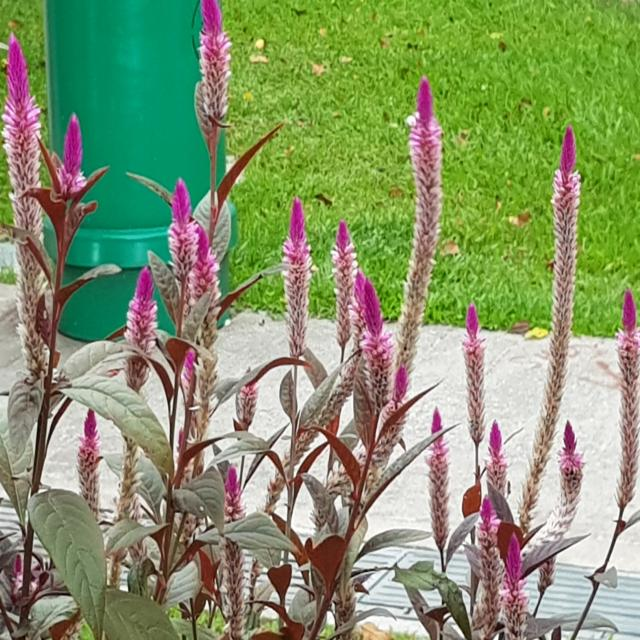Celosia-Argentea: (399, 74, 452, 399), (0, 29, 43, 371), (540, 115, 582, 415), (598, 250, 640, 546), (179, 0, 254, 164), (526, 422, 594, 560), (272, 188, 318, 384), (342, 274, 398, 434), (188, 196, 229, 412), (116, 245, 163, 414), (327, 192, 368, 363), (209, 468, 245, 640), (49, 92, 100, 212), (461, 278, 493, 464), (165, 167, 202, 314), (422, 413, 457, 568), (466, 488, 500, 639), (70, 400, 106, 537), (500, 534, 532, 640), (231, 342, 258, 428), (486, 402, 508, 504)
